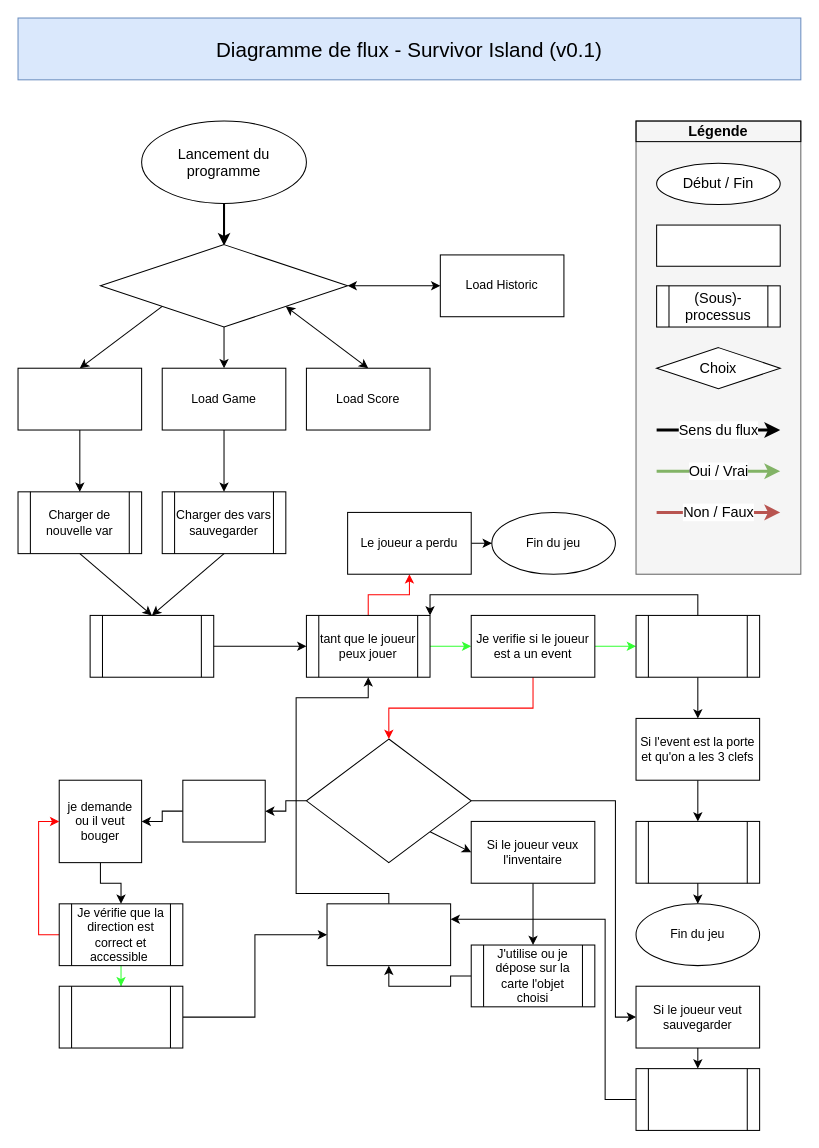
This 819x1148 diagram has some shape labels left out. The box of each missing label's shape, as (x1, y1, x2, y2) in pixels:
Afficher le menu et proposer 4 options: (99, 244, 348, 327)
Créer la carte: (89, 614, 214, 677)
Créer la carte et afficher les stats: (326, 903, 451, 966)
je change les coordonnée: (58, 985, 183, 1048)
Je demande ce que le joueur veut faire: (305, 738, 471, 863)
Je lance l'event (jeu, porte, objet trouveé): (635, 614, 760, 677)
Je sauve le score: (635, 820, 760, 883)
Je sauvegarde: (635, 1068, 760, 1130)
New Game: (17, 367, 142, 430)
si le joueur veut bouger: (182, 779, 265, 842)
Étape / Fonction: (656, 224, 780, 266)
